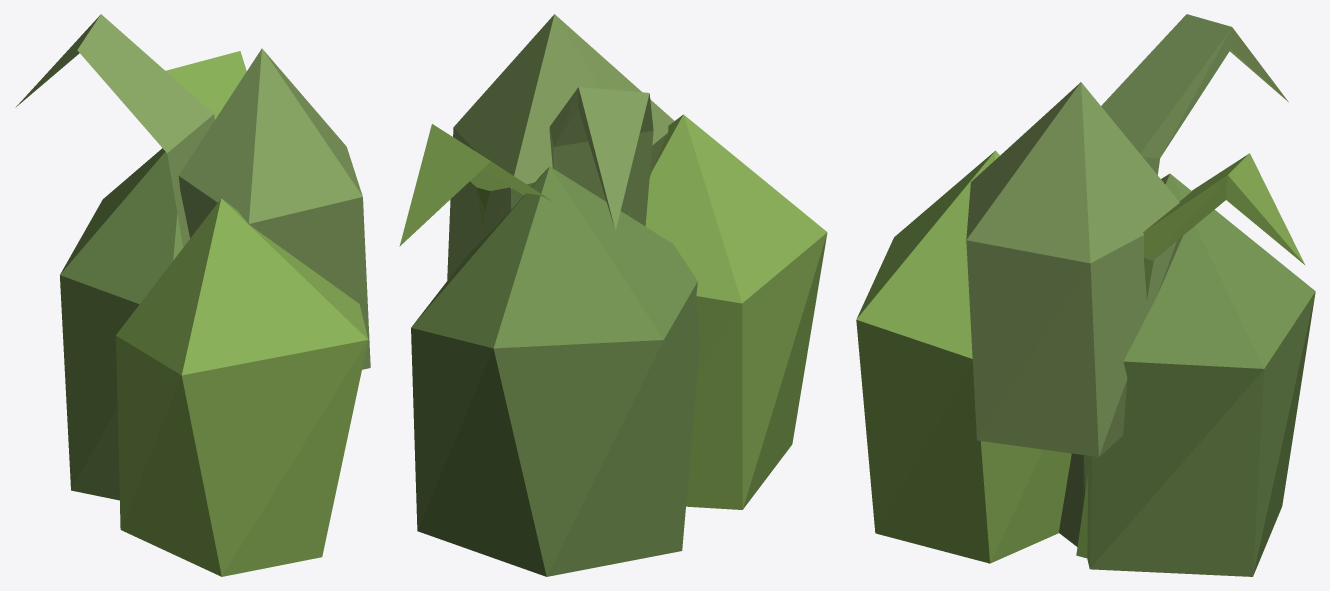
Rendered from rice_1.obj.
3 views of the same model, side by side, from view 1: azimuth 30°, elevation 25°; view 2: azimuth 150°, elevation 25°; view 3: azimuth 270°, elevation 25° (orthographic). The views are drawn at different scales.
Visible parts, largest first — view 1: rice_1; view 2: rice_1; view 3: rice_1.
Part boxes in pixels (<box>): rice_1: <box>15,14,370,576</box>; rice_1: <box>399,14,827,576</box>; rice_1: <box>856,14,1315,576</box>.
Bounding box in the file's own units: 0.2529 × 0.4105 × 0.3574.
